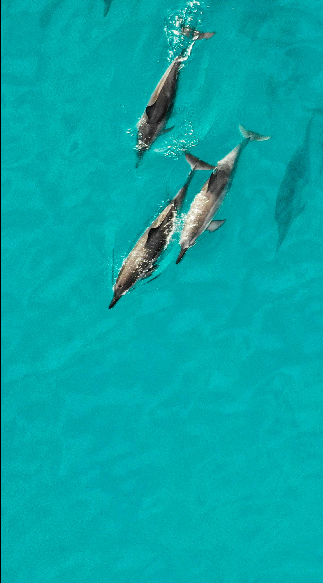dolphin: (106, 146, 216, 311), (173, 123, 272, 268), (133, 64, 182, 172)
